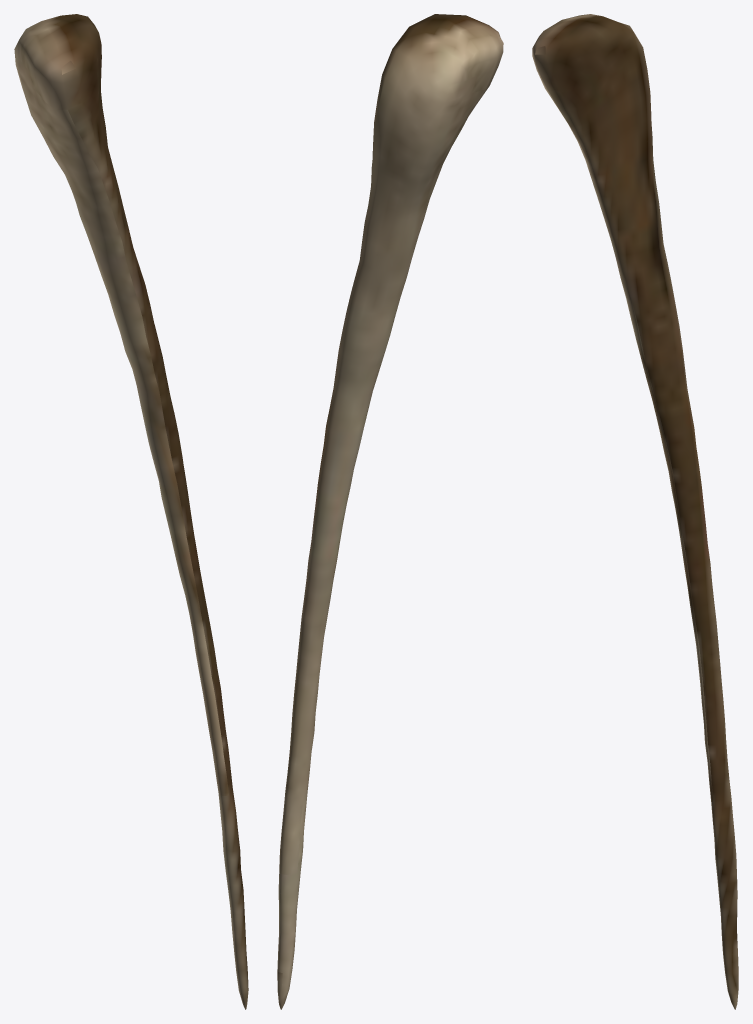
The model's file is Splint_Second_Metatarsal.glb.
The picture shows the model from 3 angles, left to right: view 1: azimuth 30°, elevation 25°; view 2: azimuth 150°, elevation 25°; view 3: azimuth 330°, elevation 25°; orthographic projection. The views are drawn at different scales.
Parts seen in each view (by area): view 1: L_Bck_Splint_Second_Metatarsal; view 2: L_Bck_Splint_Second_Metatarsal; view 3: L_Bck_Splint_Second_Metatarsal.
Boxes of the visible parts, bbox=[...] form: L_Bck_Splint_Second_Metatarsal: bbox=[14, 14, 248, 1009]; L_Bck_Splint_Second_Metatarsal: bbox=[277, 14, 503, 1009]; L_Bck_Splint_Second_Metatarsal: bbox=[532, 14, 738, 1009].
Bounding box in the file's own units: 0.0438 × 0.1994 × 0.0212.
Materials: 1 (1 with a texture image).
